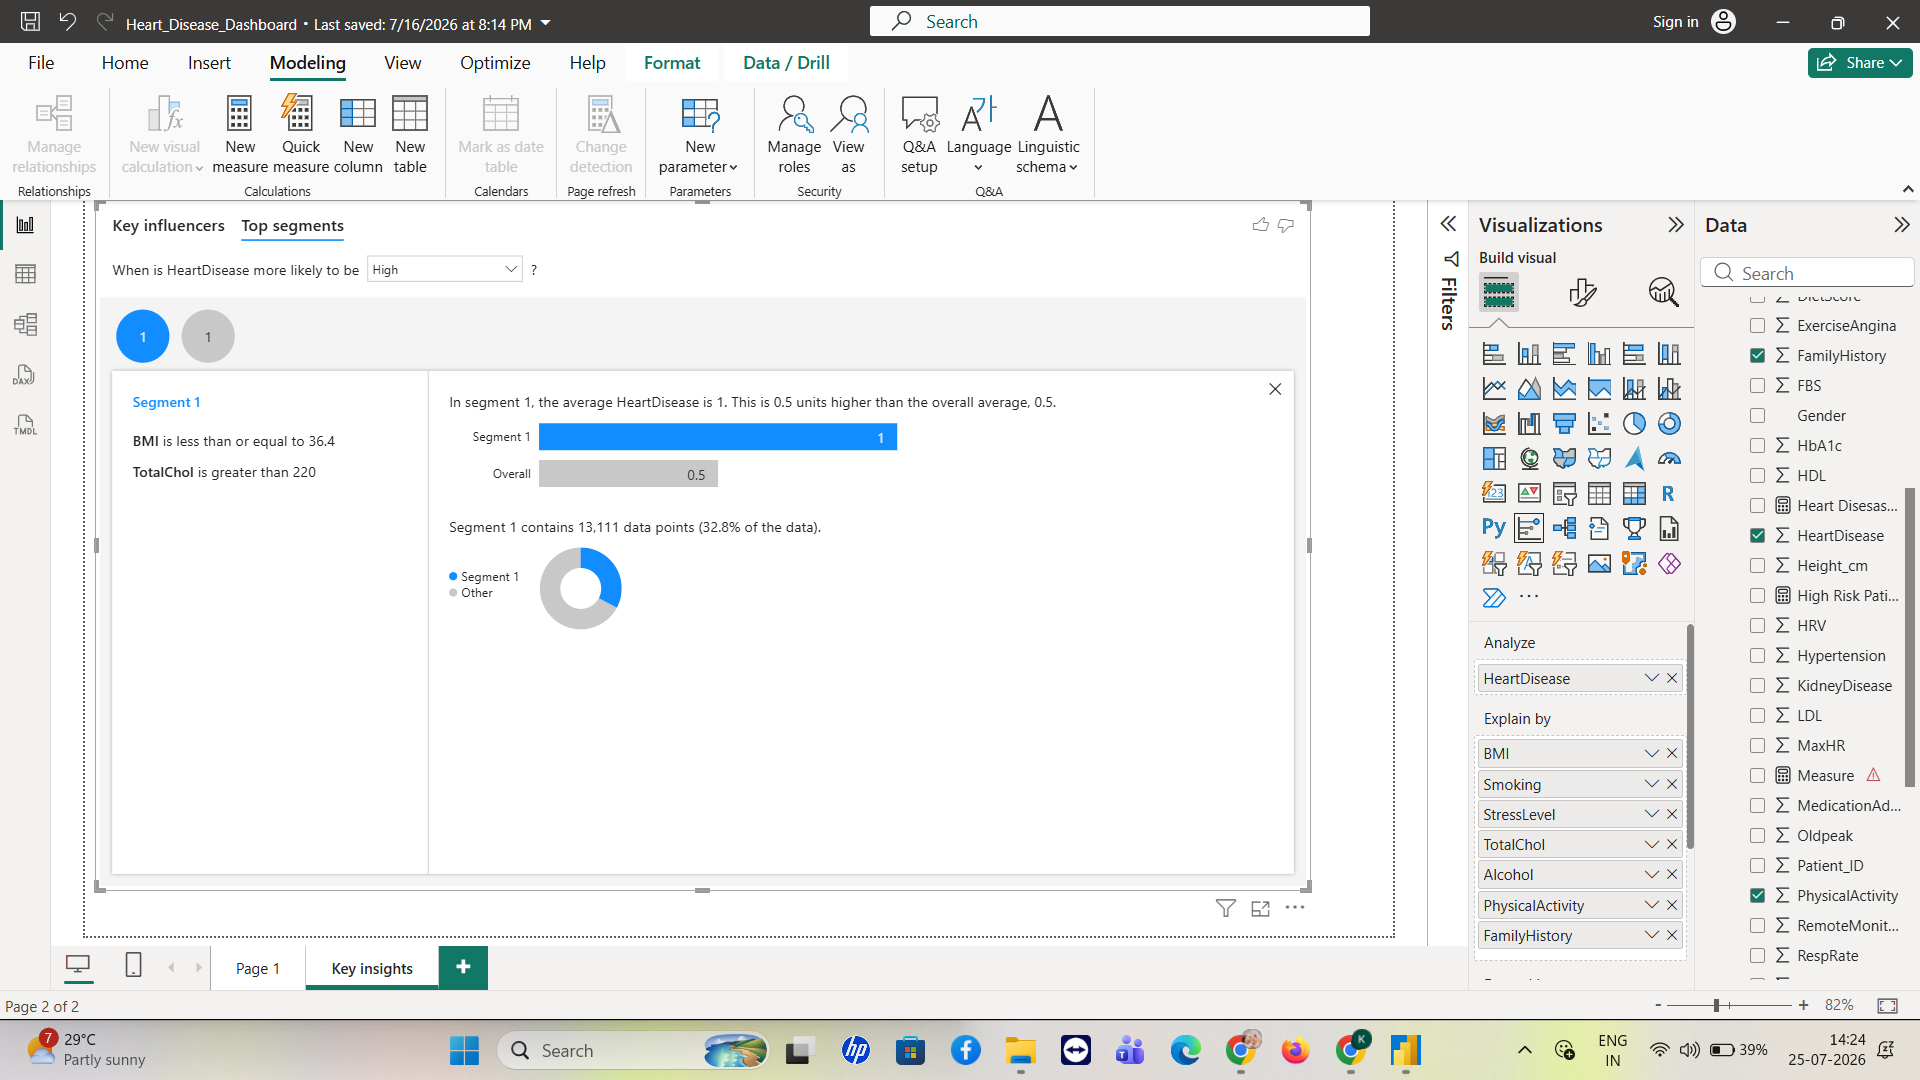

The dashboard page shown, as its layout file describes it:
{"tool":"powerbi","page":{"name":"Key insights","canvas":[1280,720],"ordinal":1},"visuals":[{"type":"keyDriversVisual","fields":{"Target":["heart_disease_DV.HeartDisease"],"ExplainBy":["heart_disease_DV.BMI","heart_disease_DV.Smoking","heart_disease_DV.StressLevel","heart_disease_DV.TotalChol","heart_disease_DV.Alcohol","heart_disease_DV.PhysicalActivity","heart_disease_DV.FamilyHistory"]},"box":[0,15.9,915.9,520.9],"z":0},{"type":"textbox","box":[10,537,916,183],"z":1}]}

Visuals, with their boxes on the page's 1280x720 design canvas (x1, y1, x2, y2). These are canvas units, not pixel positions in the 1920x1080 screenshot, which may show the page scaled, cropped or inside an application window:
keyDriversVisual - heart_disease_DV.HeartDisease x heart_disease_DV.BMI: (left=0, top=16, right=916, bottom=537)
textbox: (left=10, top=537, right=926, bottom=720)
